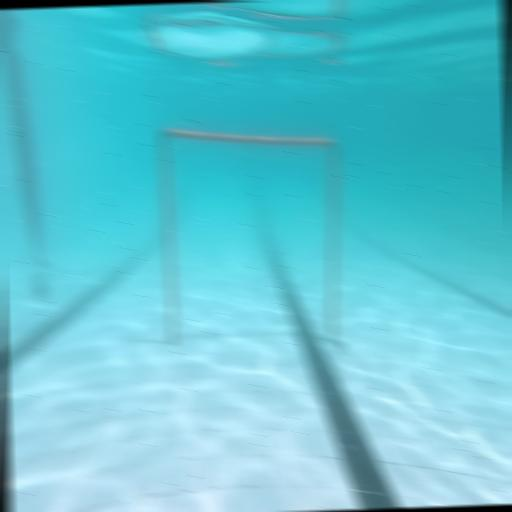gate: (158, 122, 348, 356)
